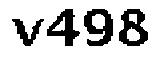4: (43, 6, 81, 51)
8: (117, 6, 151, 50)
9: (82, 6, 115, 51)
v: (9, 16, 43, 52)
